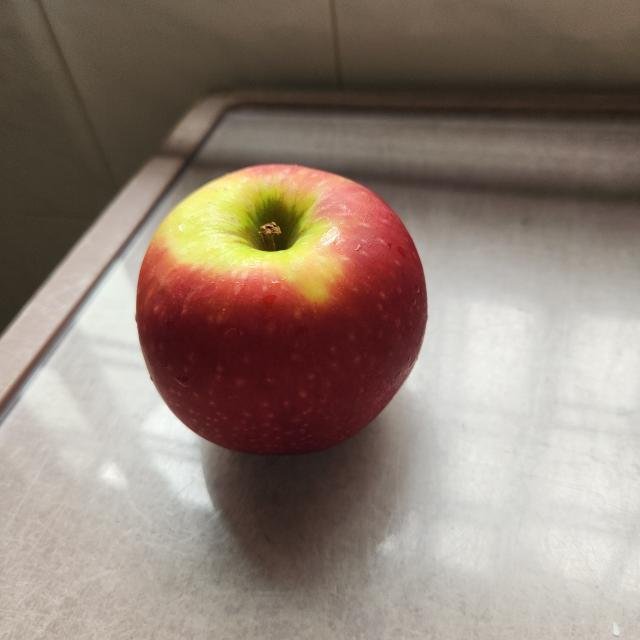apple: (130, 156, 438, 466)
